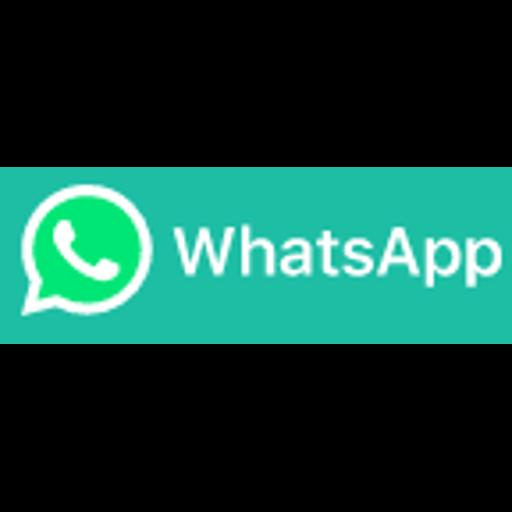WhatsApp: (0, 167, 512, 344)
